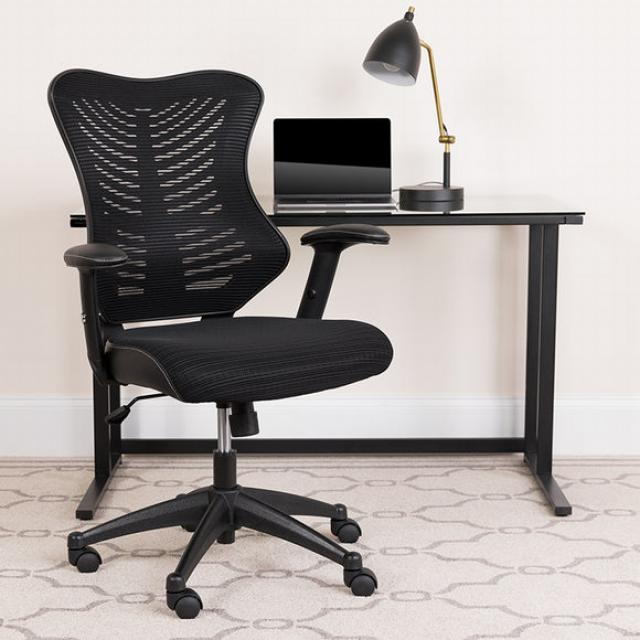chair: (33, 33, 412, 640)
light: (351, 5, 474, 213)
table: (65, 199, 606, 525)
